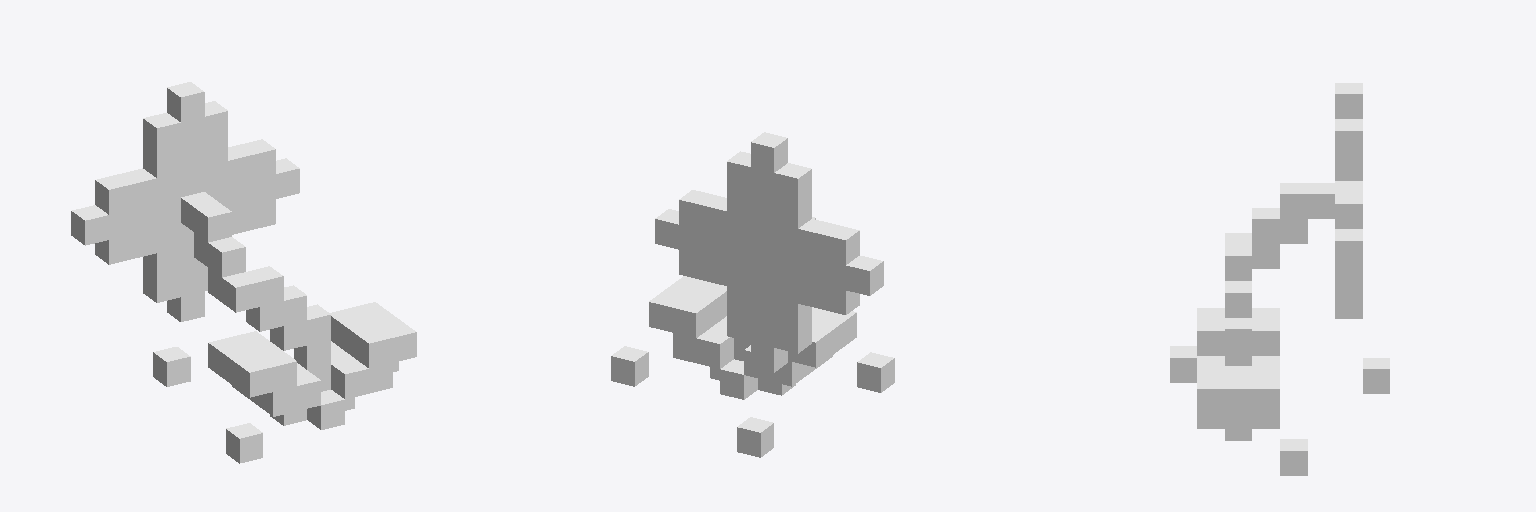
File: Flower.obj
3 renders of one model, left to right at view 1: azimuth 30°, elevation 25°; view 2: azimuth 150°, elevation 25°; view 3: azimuth 270°, elevation 25°, orthographic.
Visible parts, largest first — view 1: object 1; view 2: object 1; view 3: object 1.
Boxes of the visible parts, <box> form: object 1: <box>71,82,416,463</box>; object 1: <box>611,132,894,457</box>; object 1: <box>1170,83,1389,475</box>.
Bounding box in the file's own units: 1.2 × 1.2 × 0.8.